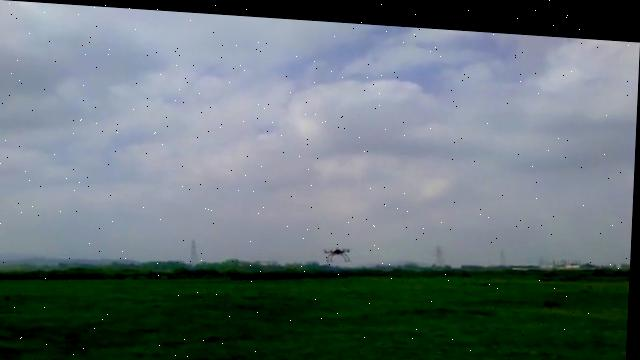drone: (323, 237, 355, 259)
